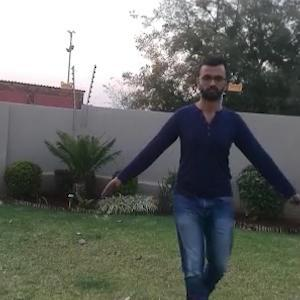land: (126, 71, 294, 299)
